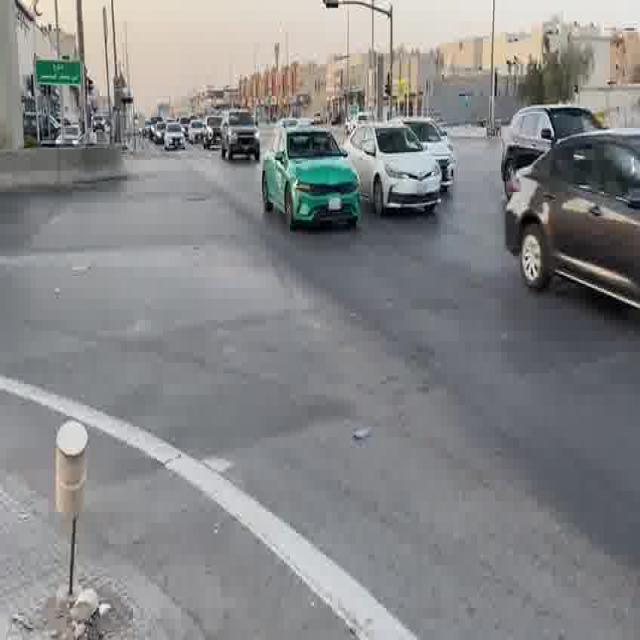bus: (505, 122, 640, 304), (261, 123, 363, 232), (346, 125, 443, 216), (503, 104, 603, 181), (400, 119, 459, 185), (220, 109, 259, 161), (52, 127, 83, 148), (204, 116, 223, 149), (145, 120, 167, 143), (164, 126, 185, 149), (190, 120, 208, 142)
car: (179, 209, 640, 640), (505, 122, 640, 304), (261, 123, 363, 232), (346, 125, 443, 216), (503, 104, 603, 181), (400, 119, 459, 185), (220, 109, 259, 161), (52, 127, 83, 148), (204, 116, 223, 149), (145, 120, 167, 143), (164, 126, 185, 149), (190, 120, 208, 142)
lanes: (179, 209, 640, 640), (226, 209, 639, 634)
lanes2: (226, 209, 639, 634), (260, 205, 640, 474)
lanes3: (260, 205, 640, 474), (286, 201, 640, 404)
lanes4: (286, 201, 640, 404), (327, 192, 640, 313)
lanes5: (327, 192, 640, 313)
